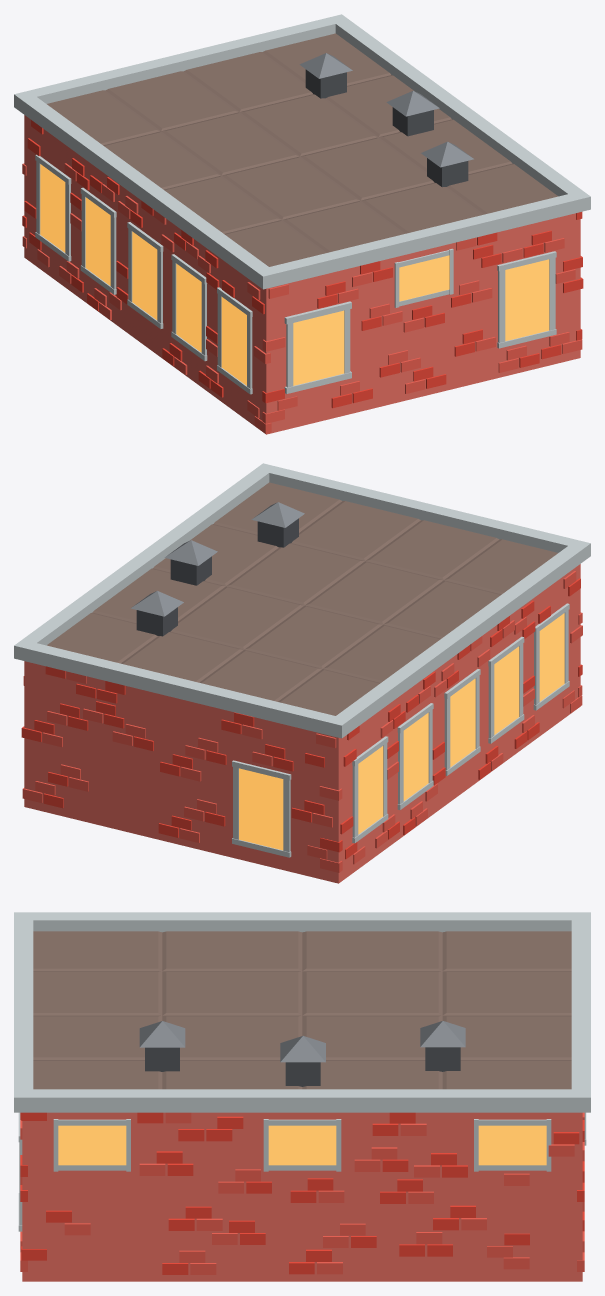
File: SM_House_21_B.fbx
3 views of the same model, one above another, from view 1: azimuth 30°, elevation 25°; view 2: azimuth 150°, elevation 25°; view 3: azimuth 270°, elevation 25° (orthographic). The views are drawn at different scales.
Visible parts, largest first — view 1: SM_House_21_B_LOD0; view 2: SM_House_21_B_LOD0; view 3: SM_House_21_B_LOD0.
Part boxes in pixels (x1,y1,x2,y2): SM_House_21_B_LOD0: (14,14,590,434); SM_House_21_B_LOD0: (14,463,590,883); SM_House_21_B_LOD0: (14,912,590,1281).
Size of the model in its own units: 876 by 1153 by 485.
1 material, 1 textured.
